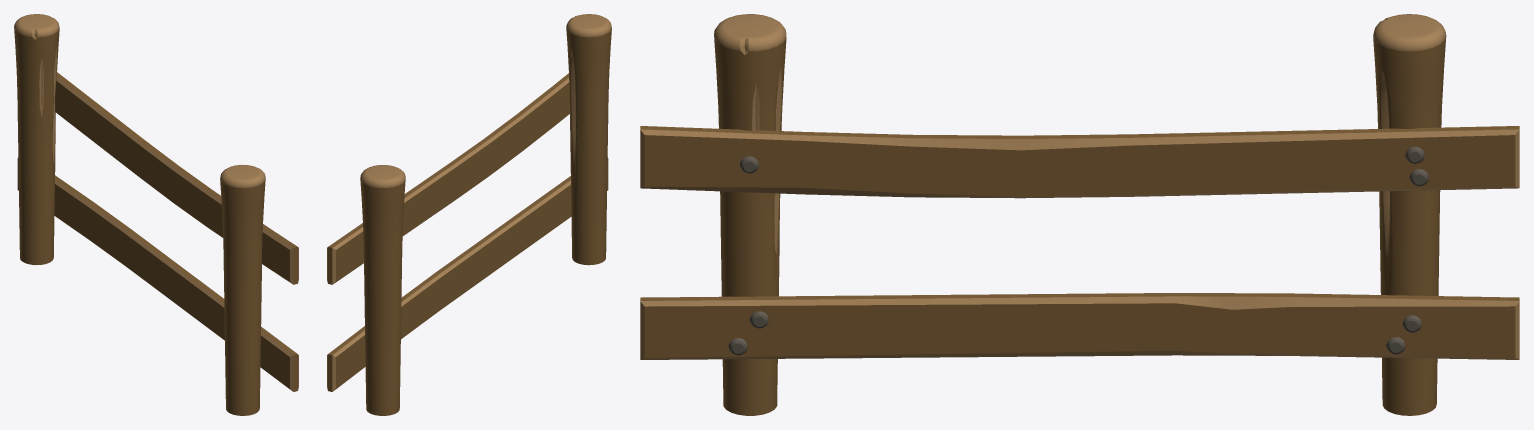
File: fenceModel.fbx
3 renders of one model, left to right at view 1: azimuth 30°, elevation 25°; view 2: azimuth 150°, elevation 25°; view 3: azimuth 270°, elevation 25°, orthographic. The views are drawn at different scales.
Parts seen in each view (by area): view 1: fence; view 2: fence; view 3: fence.
Part boxes in pixels (x1=…): fence: x1=14, y1=14, x2=298, y2=415; fence: x1=327, y1=14, x2=611, y2=415; fence: x1=640, y1=14, x2=1519, y2=415.
Bounding box in the file's own units: 0.7741 × 3.8 × 8.
